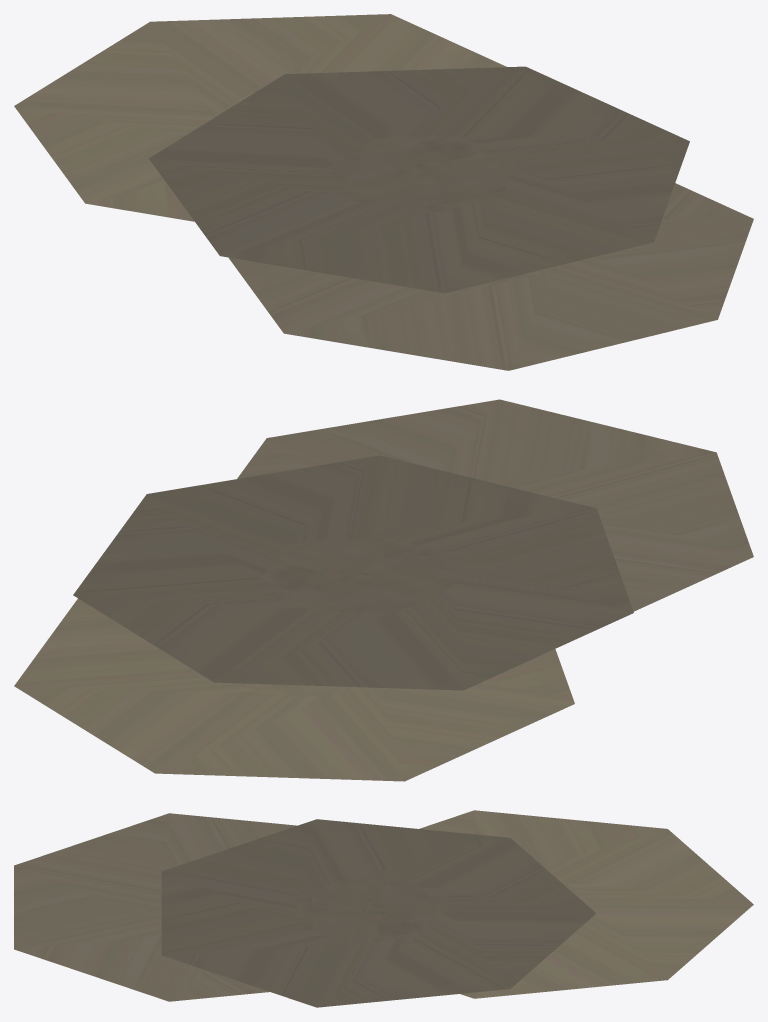
The model's file is stepping_stone_01.glb.
The picture shows the model from 3 angles, top to bottom: view 1: azimuth 30°, elevation 25°; view 2: azimuth 150°, elevation 25°; view 3: azimuth 270°, elevation 25°; orthographic projection. The views are drawn at different scales.
Parts seen in each view (by area): view 1: stepping_stone_01; view 2: stepping_stone_01; view 3: stepping_stone_01.
Boxes of the visible parts, x1=… form: stepping_stone_01: x1=14, y1=14, x2=753, y2=370; stepping_stone_01: x1=14, y1=399, x2=753, y2=781; stepping_stone_01: x1=14, y1=810, x2=753, y2=1007.
Size of the model in its own units: 1.96 by 0.13 by 3.01.
Materials: 3 (3 with a texture image).
